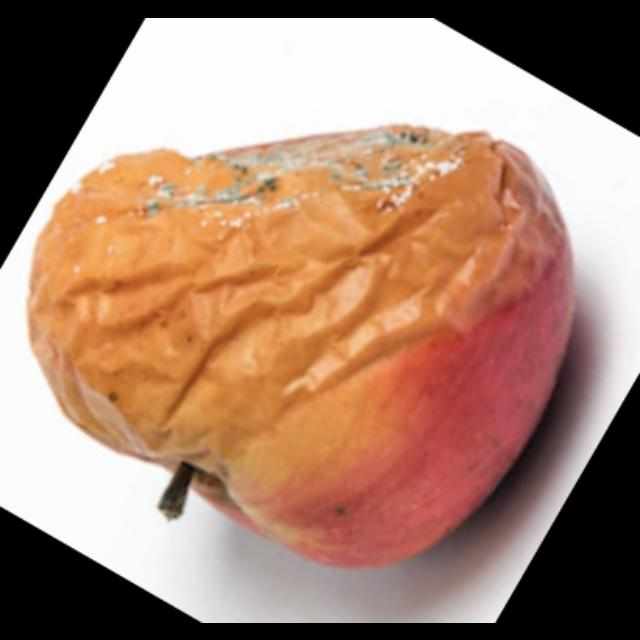Apel Tidak Segar: (23, 118, 581, 572)
